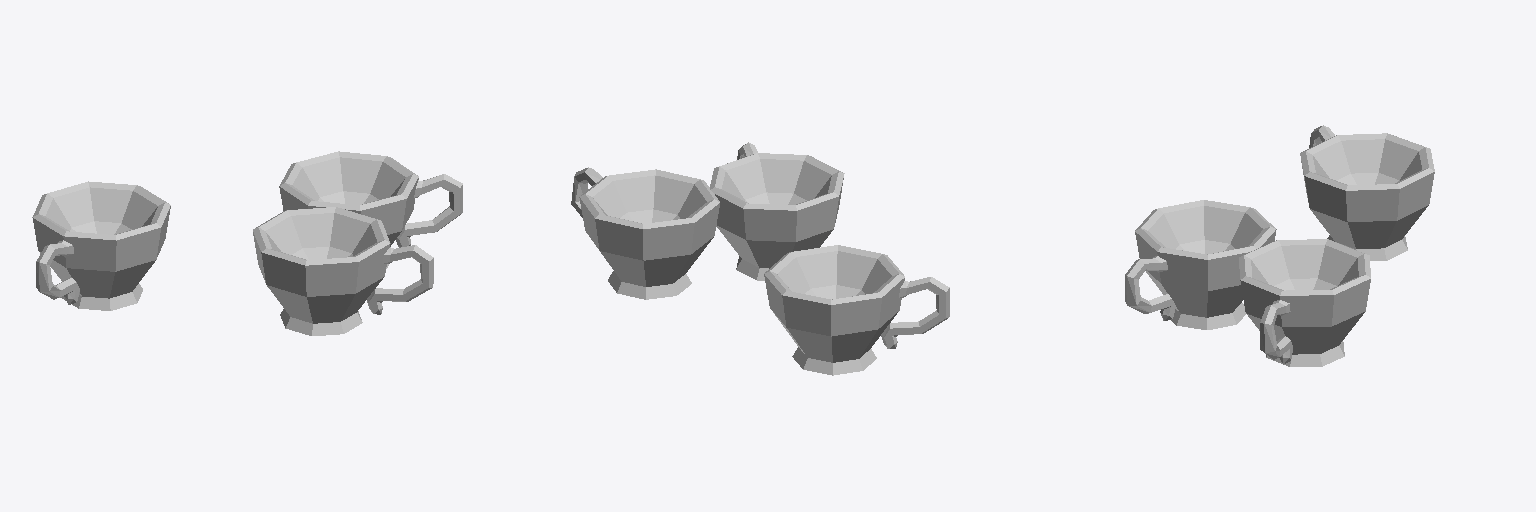
File: Tazas.obj
3 views of the same model, side by side, from view 1: azimuth 30°, elevation 25°; view 2: azimuth 150°, elevation 25°; view 3: azimuth 270°, elevation 25° (orthographic).
Parts seen in each view (by area): view 1: pasted__polySurface23polySurface21polySurface14pasted__Indoor_Md; view 2: pasted__polySurface23polySurface21polySurface14pasted__Indoor_Md; view 3: pasted__polySurface23polySurface21polySurface14pasted__Indoor_Md.
Part boxes in pixels (x1,y1,x2,y2): pasted__polySurface23polySurface21polySurface14pasted__Indoor_Md: (32,151,462,335); pasted__polySurface23polySurface21polySurface14pasted__Indoor_Md: (571,142,949,375); pasted__polySurface23polySurface21polySurface14pasted__Indoor_Md: (1125,125,1434,366).
Bounding box in the file's own units: 0.6371 × 0.1303 × 0.4289.